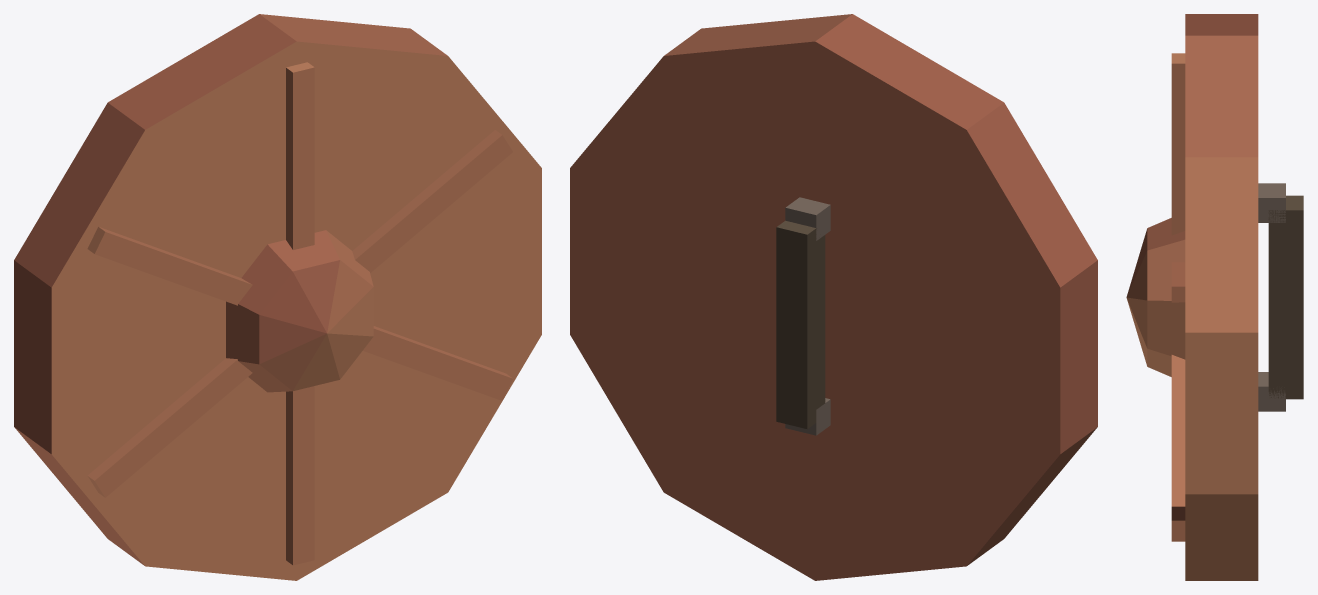
The model's file is barb_off_0.gltf.
3 views of the same model, side by side, from view 1: azimuth 30°, elevation 25°; view 2: azimuth 150°, elevation 25°; view 3: azimuth 270°, elevation 25° (orthographic). The views are drawn at different scales.
Parts seen in each view (by area): view 1: barb_off_0; view 2: barb_off_0; view 3: barb_off_0.
Boxes of the visible parts, <box> form: barb_off_0: <box>14,14,541,580</box>; barb_off_0: <box>570,14,1097,580</box>; barb_off_0: <box>1126,14,1303,580</box>.
Bounding box in the file's own units: 0.7913 × 0.832 × 0.255.
1 material, 1 textured.
